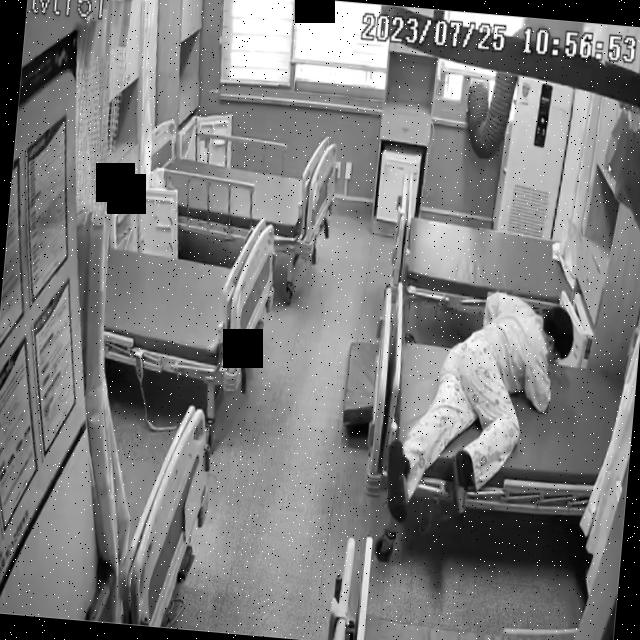bed: (361, 280, 632, 524), (388, 160, 586, 332), (101, 208, 279, 388), (159, 128, 336, 257)
danger: (388, 282, 574, 529)
patient: (384, 276, 576, 530)
